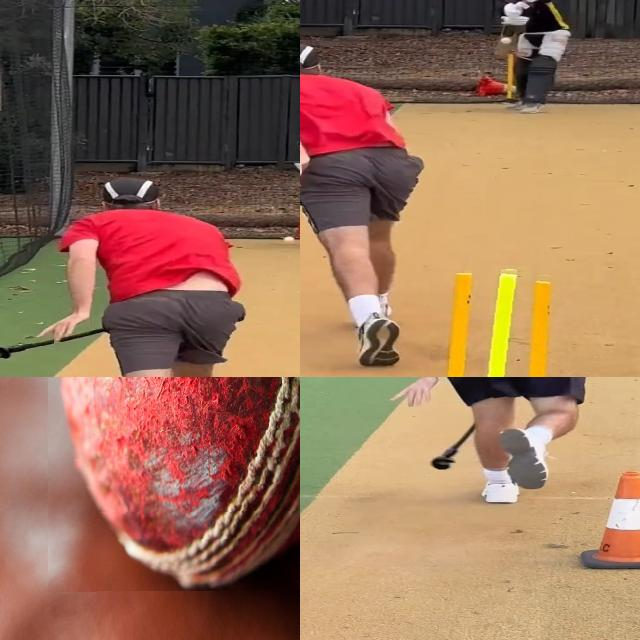Cricket ball: (47, 377, 300, 591), (281, 236, 296, 245), (498, 36, 513, 45)
Stumps: (429, 265, 568, 377)
